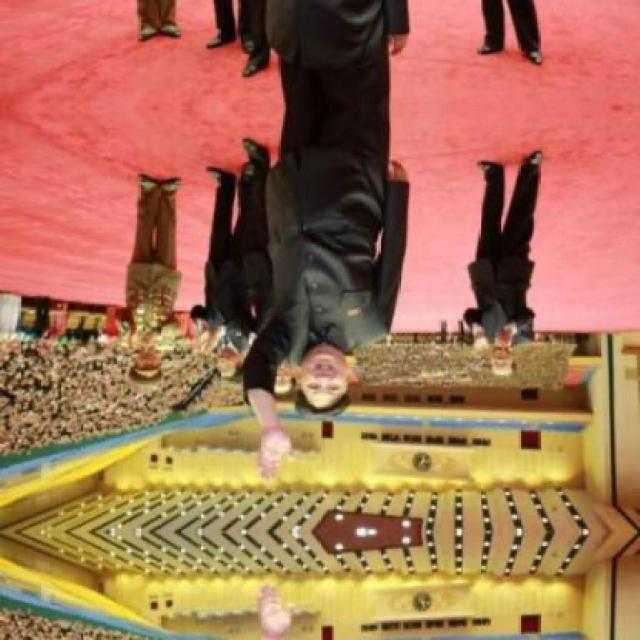sin casco: (278, 330, 399, 437), (443, 320, 555, 383), (182, 334, 281, 394), (93, 329, 173, 402)
